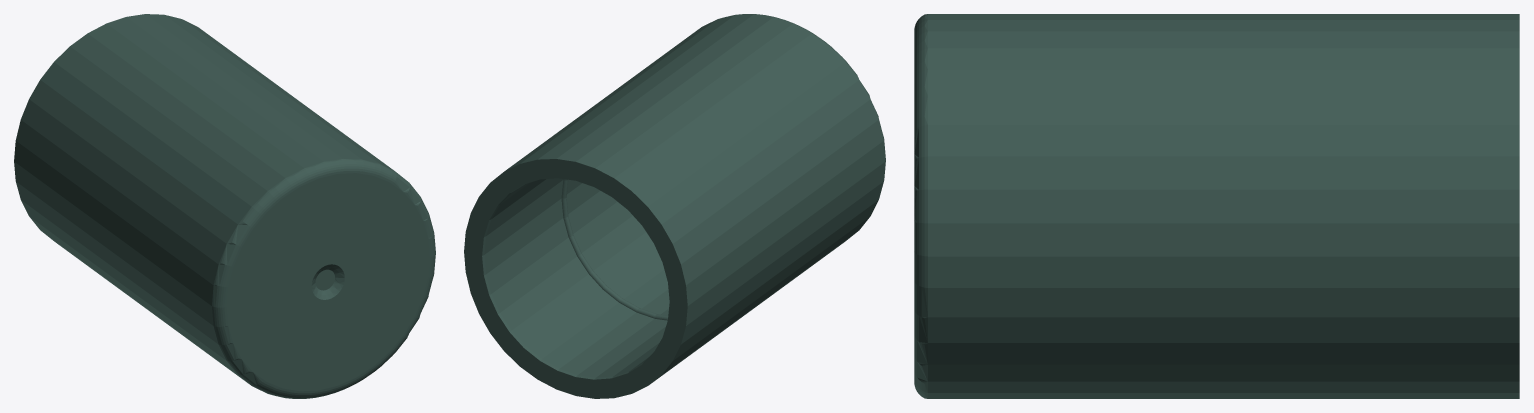
Rendered from SRTXTPCR.glb.
3 renders of one model, left to right at view 1: azimuth 30°, elevation 25°; view 2: azimuth 150°, elevation 25°; view 3: azimuth 270°, elevation 25°, orthographic. The views are drawn at different scales.
Visible parts, largest first — view 1: 20748098; view 2: 20748098; view 3: 20748098.
Boxes of the visible parts, bbox=[...] form: 20748098: bbox=[14, 14, 435, 398]; 20748098: bbox=[464, 14, 885, 398]; 20748098: bbox=[914, 14, 1519, 398].
Size of the model in its own units: 0.6383 by 0.6383 by 1.
